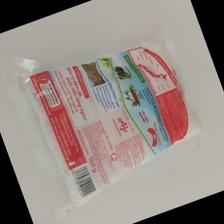Ajinomoto: (21, 43, 208, 205)
